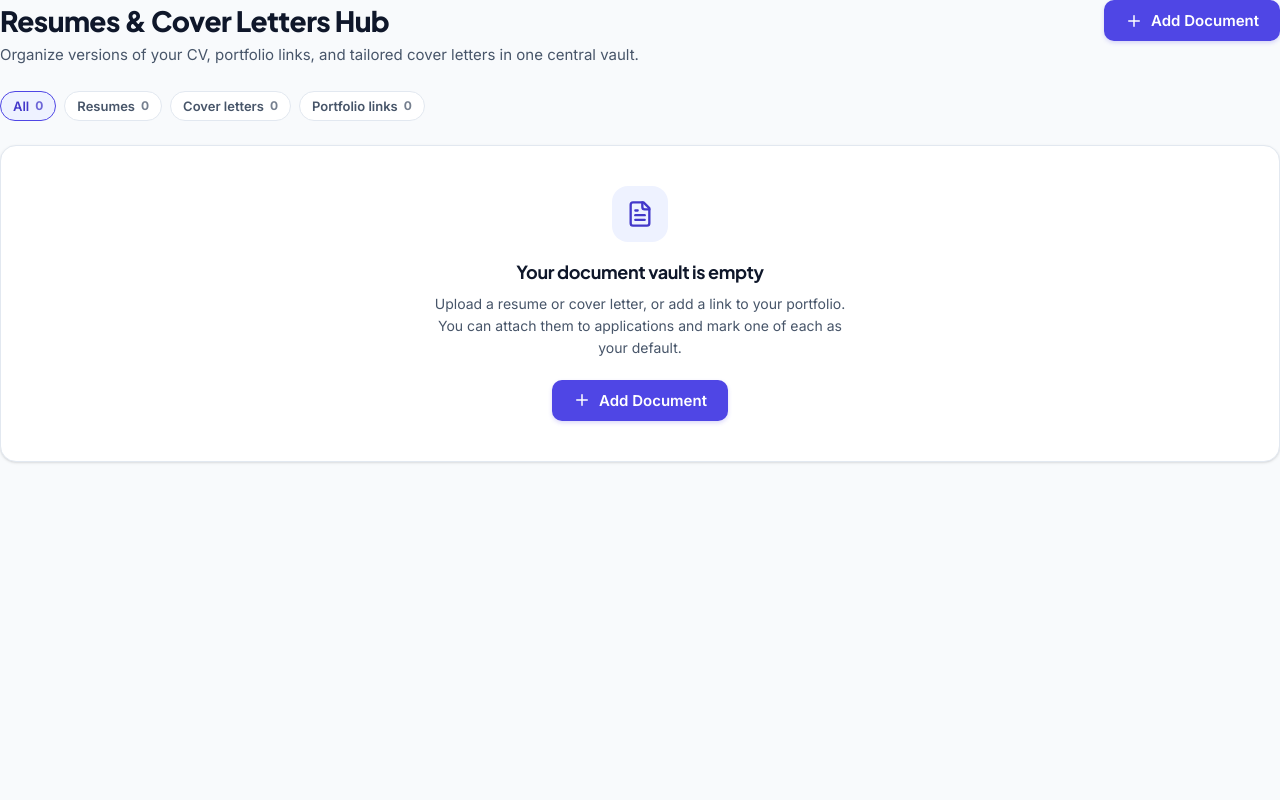
Test: adding a document › rejects a document with no name
Click the button "Add Document" in the row of "Resumes & Cover Letters Hub" at (1192, 20), box [1104,0,1279,41]
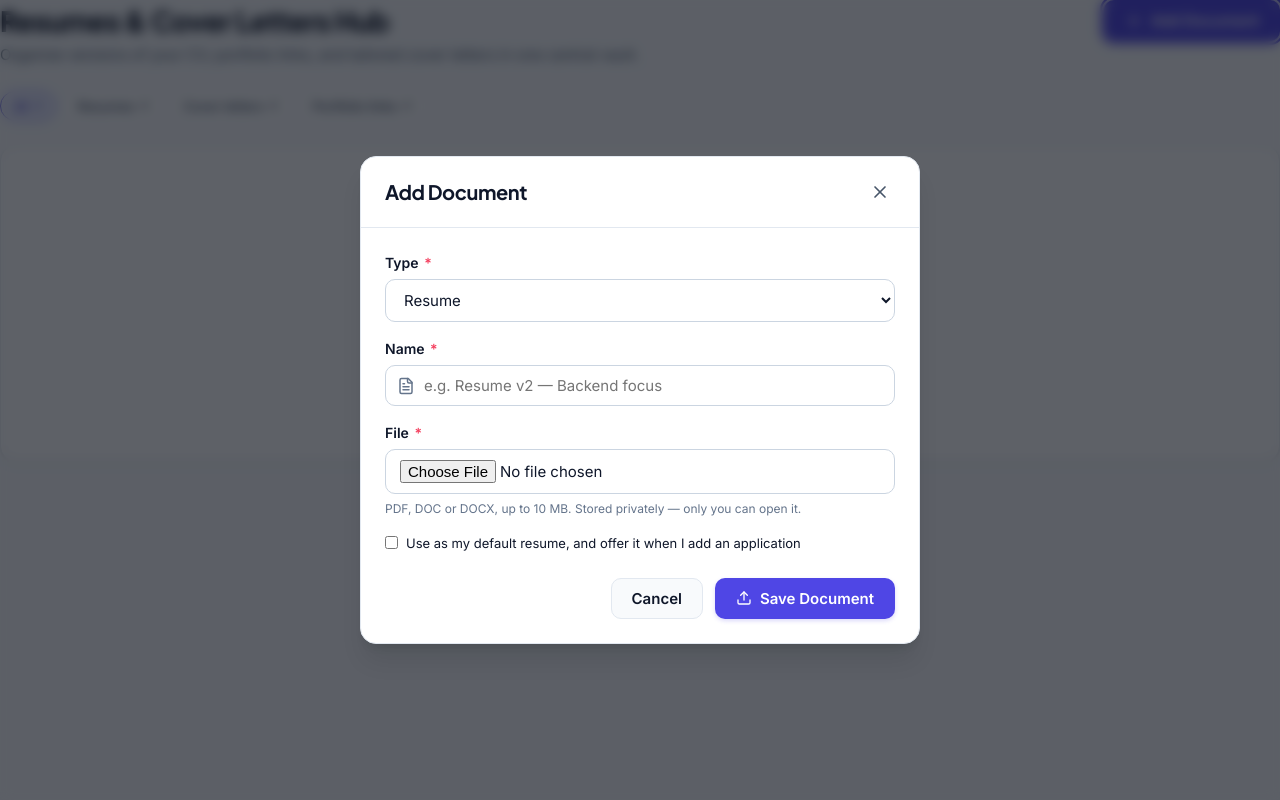
Submit the form named "save document", box [385,252,895,619]
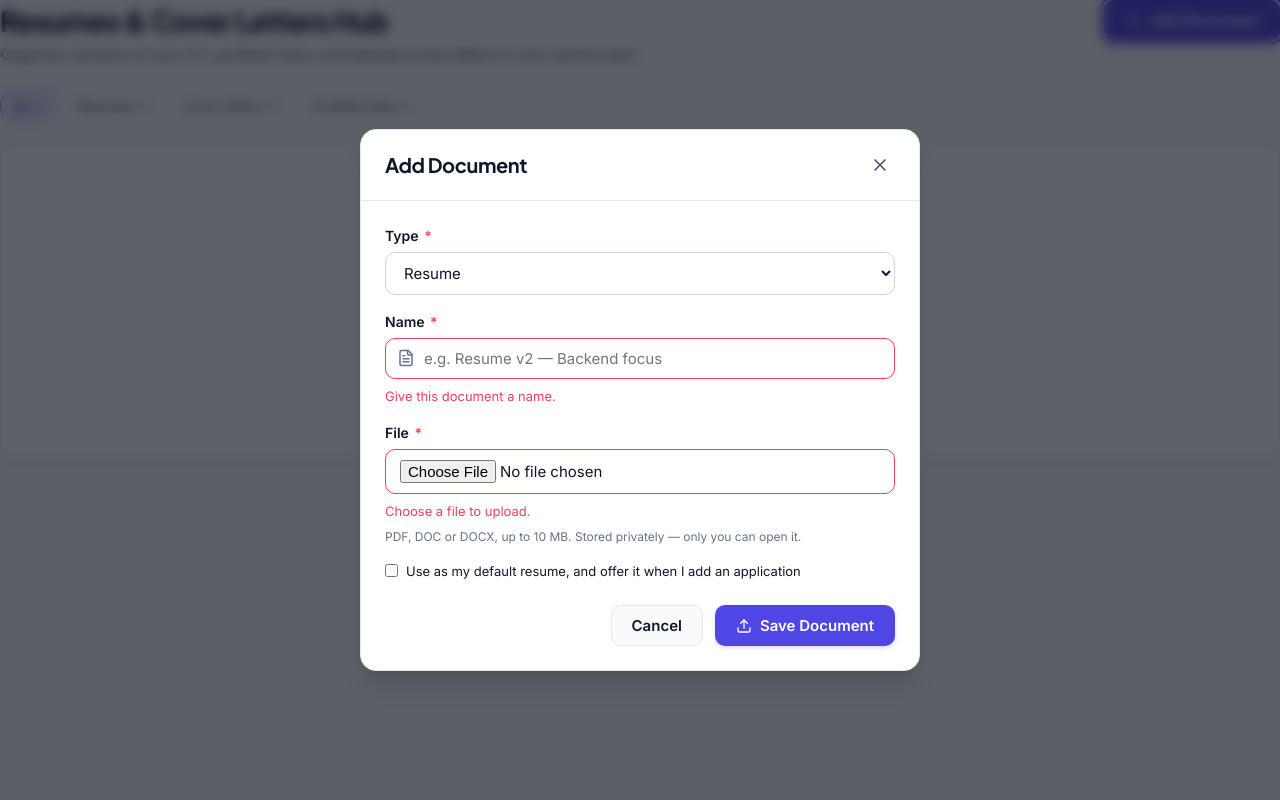
Now the text "Give this document a name." is shown, box [385,388,556,404]
